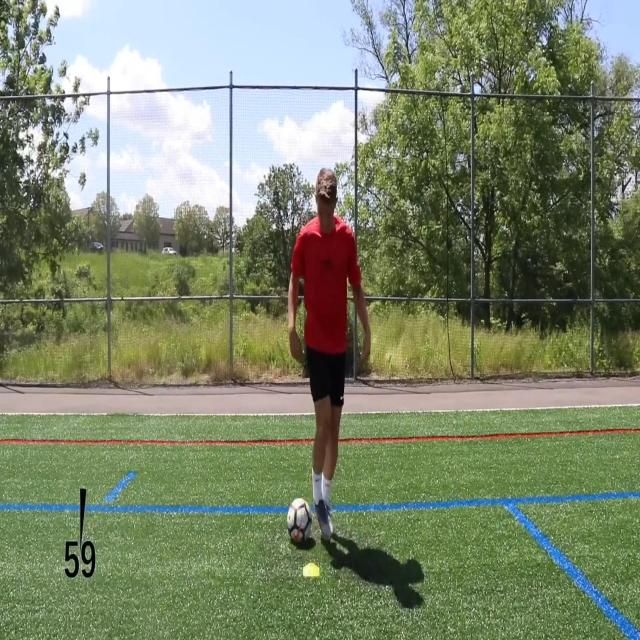Soccer Ball: (287, 497, 312, 548)
